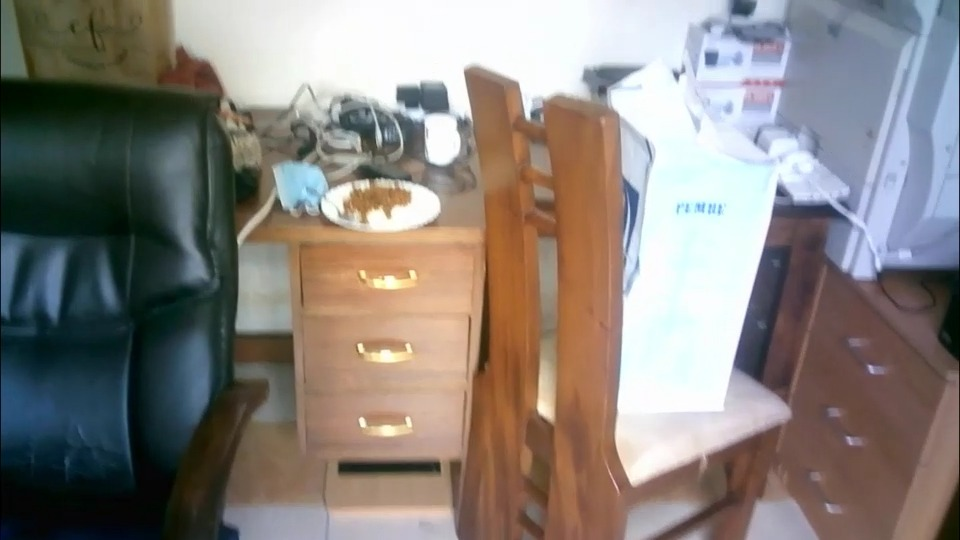wheat_flour_blue_label: (623, 92, 778, 417)
